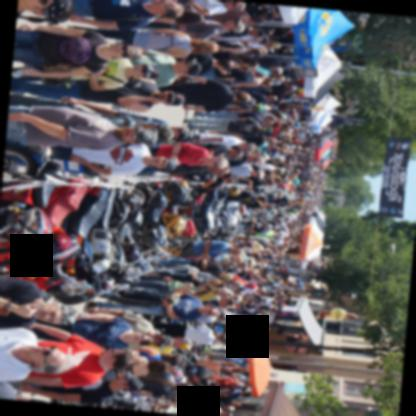backpack: (111, 0, 159, 22)
handbag: (39, 73, 124, 89), (40, 61, 109, 71), (157, 42, 189, 51), (158, 291, 173, 297)
